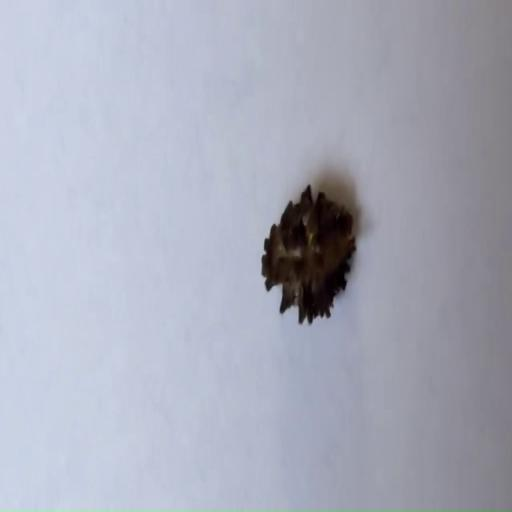papaya_seed: (211, 132, 380, 355)
